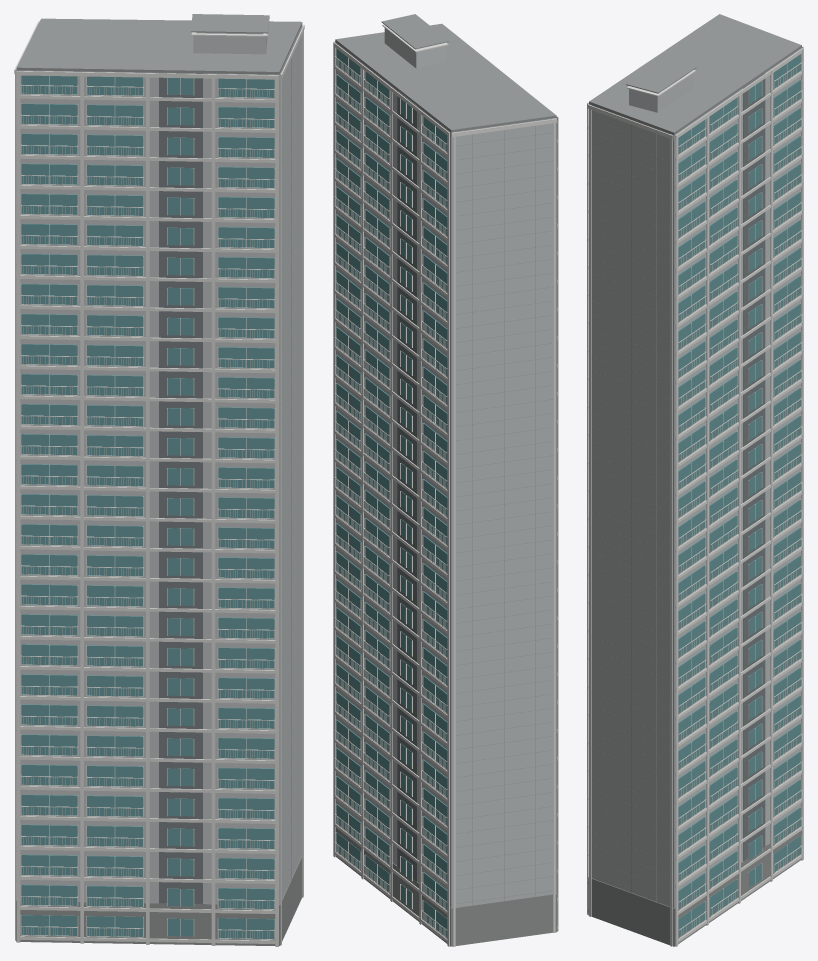
Rendered from bespoke-jamsil-ricenz-210.glb.
3 renders of one model, left to right at view 1: azimuth 30°, elevation 25°; view 2: azimuth 150°, elevation 25°; view 3: azimuth 270°, elevation 25°, orthographic. The views are drawn at different scales.
Visible parts, largest first — view 1: Ricenz210_editable_Ricenz210_turquoise_balcony_glazing, Ricenz210_editable_Ricenz210_light_grey_solid_wall, Ricenz210_white_exact_chunk_0, Ricenz210_white_exact_chunk_1, Ricenz210_editable_Ricenz210_narrow_charcoal_service_strips, Ricenz210_editable_Ricenz210_modest_grey_flat_roof_caps, Ricenz210_editable_Ricenz210_muted_ground_wall; view 2: Ricenz210_editable_Ricenz210_light_grey_solid_wall, Ricenz210_editable_Ricenz210_turquoise_balcony_glazing, Ricenz210_white_exact_chunk_2, Ricenz210_editable_Ricenz210_modest_grey_flat_roof_caps, Ricenz210_white_exact_chunk_1, Ricenz210_editable_Ricenz210_narrow_charcoal_service_strips, Ricenz210_white_exact_chunk_0, Ricenz210_editable_Ricenz210_muted_ground_wall; view 3: Ricenz210_editable_Ricenz210_light_grey_solid_wall, Ricenz210_editable_Ricenz210_turquoise_balcony_glazing, Ricenz210_white_exact_chunk_2, Ricenz210_white_exact_chunk_1, Ricenz210_editable_Ricenz210_modest_grey_flat_roof_caps, Ricenz210_editable_Ricenz210_narrow_charcoal_service_strips, Ricenz210_editable_Ricenz210_muted_ground_wall.
Boxes of the visible parts, x1,y1,x2,y2 form: Ricenz210_editable_Ricenz210_turquoise_balcony_glazing: (21,75,274,938); Ricenz210_editable_Ricenz210_light_grey_solid_wall: (16,25,302,904); Ricenz210_white_exact_chunk_0: (14,21,275,943); Ricenz210_white_exact_chunk_1: (16,24,304,946); Ricenz210_editable_Ricenz210_narrow_charcoal_service_strips: (159,72,202,903); Ricenz210_editable_Ricenz210_modest_grey_flat_roof_caps: (16,14,302,895); Ricenz210_editable_Ricenz210_muted_ground_wall: (16,855,302,945); Ricenz210_editable_Ricenz210_light_grey_solid_wall: (335,28,556,908); Ricenz210_editable_Ricenz210_turquoise_balcony_glazing: (336,48,447,937); Ricenz210_white_exact_chunk_2: (333,24,449,946); Ricenz210_editable_Ricenz210_modest_grey_flat_roof_caps: (335,14,556,905); Ricenz210_white_exact_chunk_1: (334,41,558,931); Ricenz210_editable_Ricenz210_narrow_charcoal_service_strips: (397,91,417,881); Ricenz210_white_exact_chunk_0: (451,118,557,946); Ricenz210_editable_Ricenz210_muted_ground_wall: (335,823,557,946); Ricenz210_editable_Ricenz210_light_grey_solid_wall: (589,47,801,908); Ricenz210_editable_Ricenz210_turquoise_balcony_glazing: (678,54,800,937); Ricenz210_white_exact_chunk_2: (627,48,803,946); Ricenz210_white_exact_chunk_1: (587,102,738,946); Ricenz210_editable_Ricenz210_modest_grey_flat_roof_caps: (589,14,801,903); Ricenz210_editable_Ricenz210_narrow_charcoal_service_strips: (743,73,765,860); Ricenz210_editable_Ricenz210_muted_ground_wall: (588,826,801,946).
Size of the model in its own units: 27.28 by 88.33 by 20.8.
